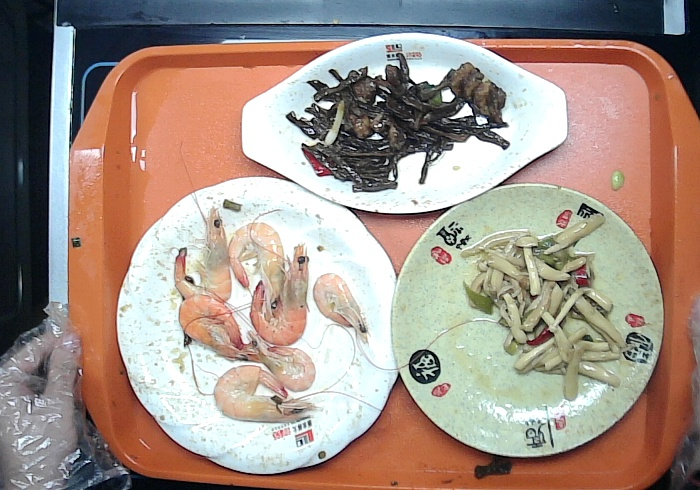NLDX-Bai_Zhe_Yuan_Pan: (113, 174, 400, 475)
NLDX-Fu_Zi_Yuan_Pan: (389, 179, 667, 459)
NLDX-Yu_Pan: (239, 31, 568, 217)
